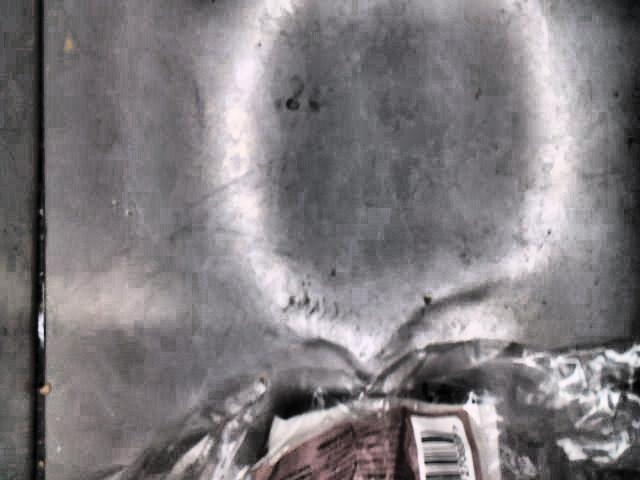Plastic: (104, 339, 640, 480)
